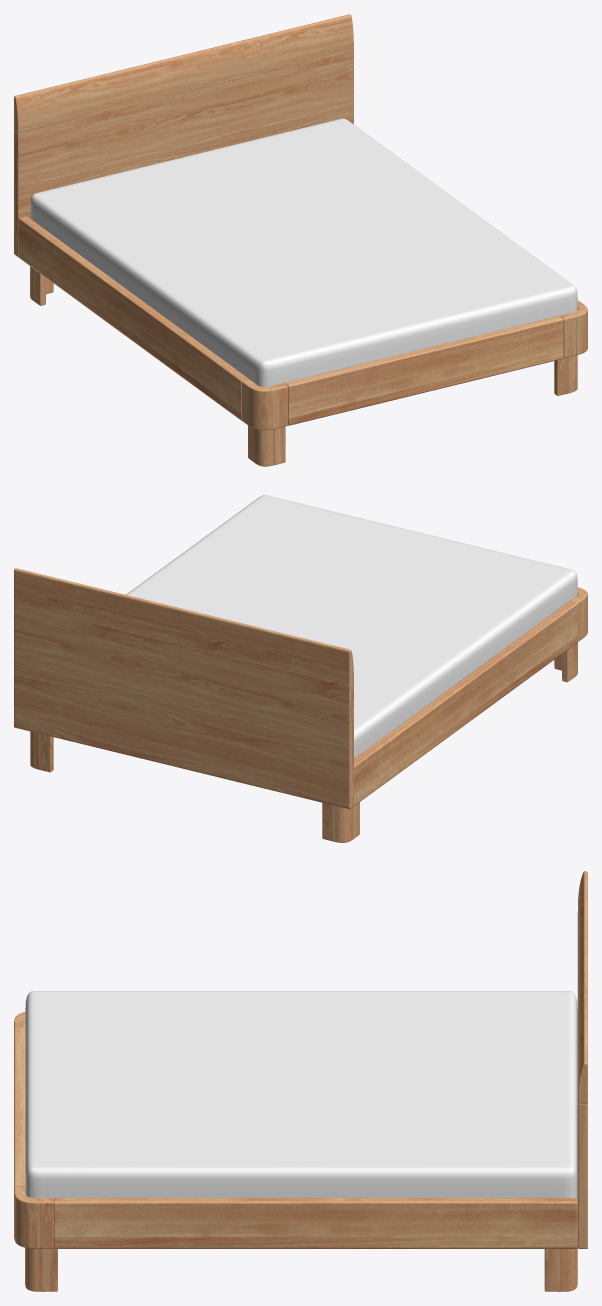
The picture shows the model from 3 angles, top to bottom: view 1: azimuth 30°, elevation 25°; view 2: azimuth 150°, elevation 25°; view 3: azimuth 270°, elevation 25°; orthographic projection. The views are drawn at different scales.
Parts seen in each view (by area): view 1: RootNode; view 2: RootNode; view 3: RootNode.
Boxes of the visible parts, <box> form: RootNode: <box>14,14,587,466</box>; RootNode: <box>14,495,587,842</box>; RootNode: <box>14,871,587,1291</box>.
Size of the model in its own units: 1.66 by 0.9398 by 2.09.
1 material, 1 textured.
